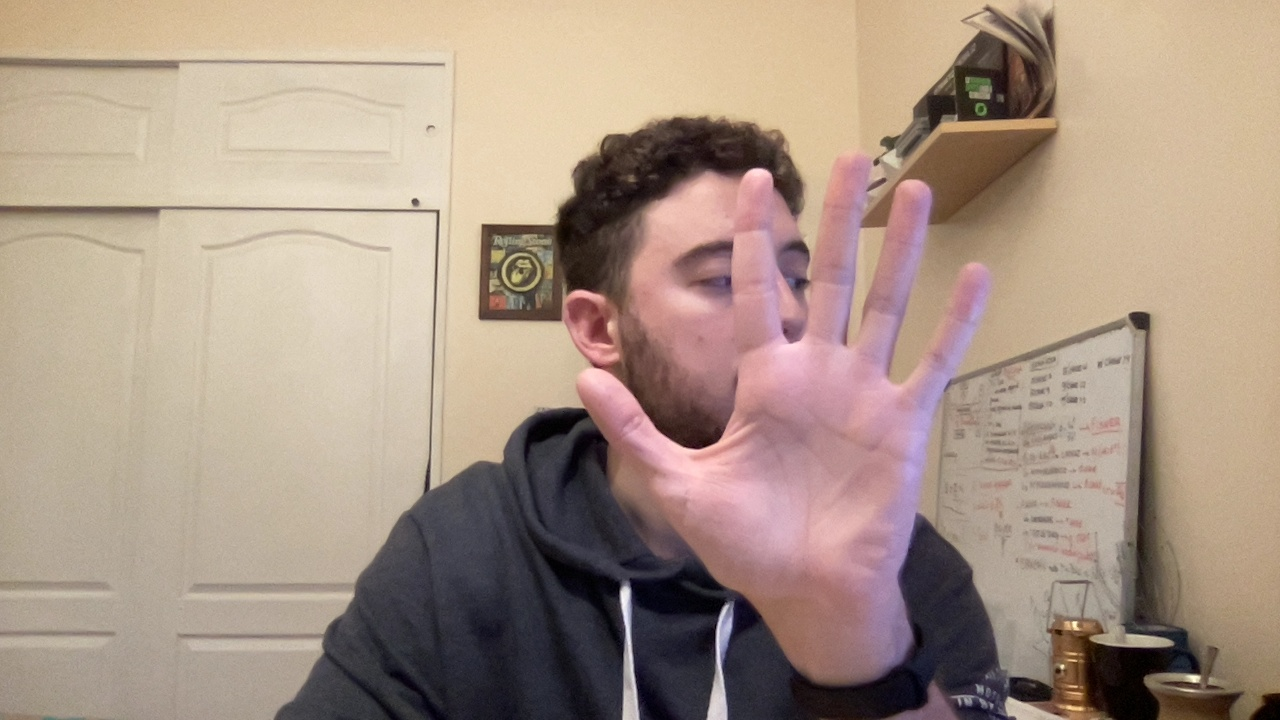abierto: (560, 144, 992, 615)
